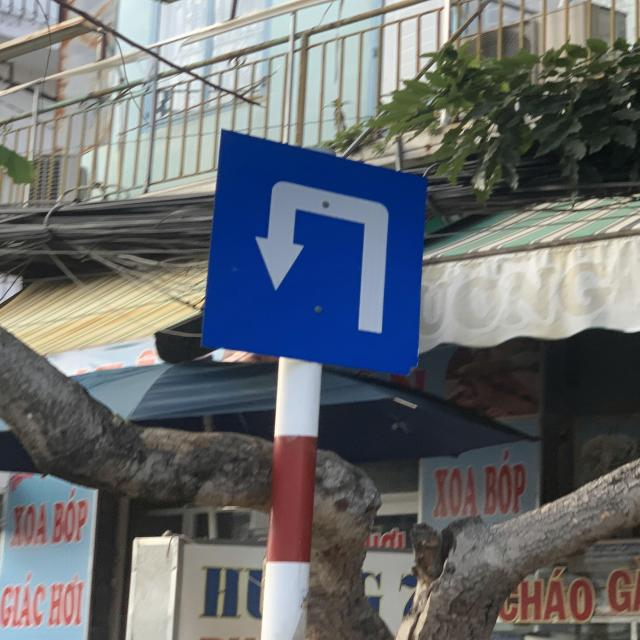Den_Giao_Thong: (205, 130, 426, 378)
